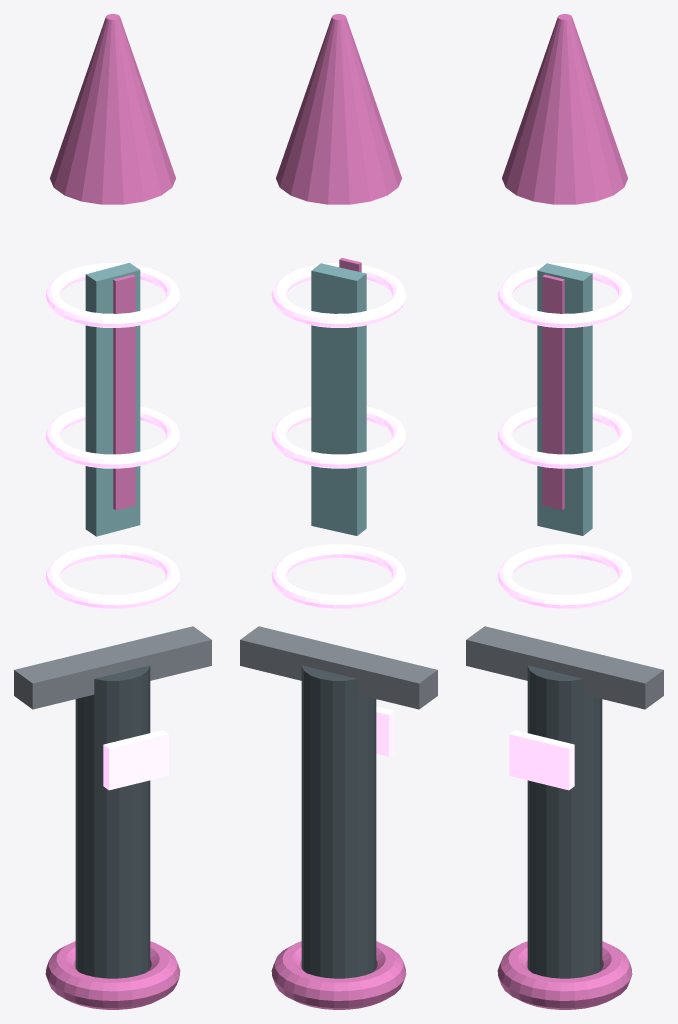
File: asset.glb
3 views of the same model, side by side, from view 1: azimuth 30°, elevation 25°; view 2: azimuth 150°, elevation 25°; view 3: azimuth 330°, elevation 25° (orthographic).
Visible parts, largest first — view 1: Grip, BladeTip, BladeCore, Guard, Pommel, BladeEdge, EnergyBand_1.18, EnergyBand_2.26, EnergyBand_1.72, IdentityPlate; view 2: Grip, BladeTip, BladeCore, Guard, Pommel, EnergyBand_1.18, EnergyBand_2.26, EnergyBand_1.72, IdentityPlate; view 3: Grip, BladeTip, BladeCore, Guard, Pommel, BladeEdge, EnergyBand_1.18, EnergyBand_2.26, EnergyBand_1.72, IdentityPlate.
Part boxes in pixels (bbox=[...]): Grip: bbox=[75, 665, 150, 978]; BladeTip: bbox=[50, 14, 175, 204]; BladeCore: bbox=[85, 263, 140, 536]; Guard: bbox=[14, 626, 211, 709]; Pommel: bbox=[45, 941, 180, 1009]; BladeEdge: bbox=[113, 274, 135, 510]; EnergyBand_1.18: bbox=[45, 544, 180, 609]; EnergyBand_2.26: bbox=[45, 263, 180, 327]; EnergyBand_1.72: bbox=[45, 406, 180, 468]; IdentityPlate: bbox=[103, 730, 168, 790]; Grip: bbox=[301, 665, 376, 978]; BladeTip: bbox=[276, 14, 401, 204]; BladeCore: bbox=[311, 263, 366, 535]; Guard: bbox=[240, 626, 437, 709]; Pommel: bbox=[271, 941, 406, 1009]; EnergyBand_1.18: bbox=[271, 544, 406, 609]; EnergyBand_2.26: bbox=[271, 263, 406, 327]; EnergyBand_1.72: bbox=[271, 406, 406, 468]; IdentityPlate: bbox=[376, 706, 394, 756]; Grip: bbox=[527, 665, 602, 978]; BladeTip: bbox=[502, 14, 627, 204]; BladeCore: bbox=[537, 263, 592, 535]; Guard: bbox=[466, 626, 663, 709]; Pommel: bbox=[497, 941, 632, 1009]; BladeEdge: bbox=[542, 274, 564, 510]; EnergyBand_1.18: bbox=[497, 544, 632, 609]; EnergyBand_2.26: bbox=[497, 263, 632, 327]; EnergyBand_1.72: bbox=[497, 406, 632, 468]; IdentityPlate: bbox=[509, 730, 574, 790].
Size of the model in its own units: 0.72 by 3.72 by 0.47.
